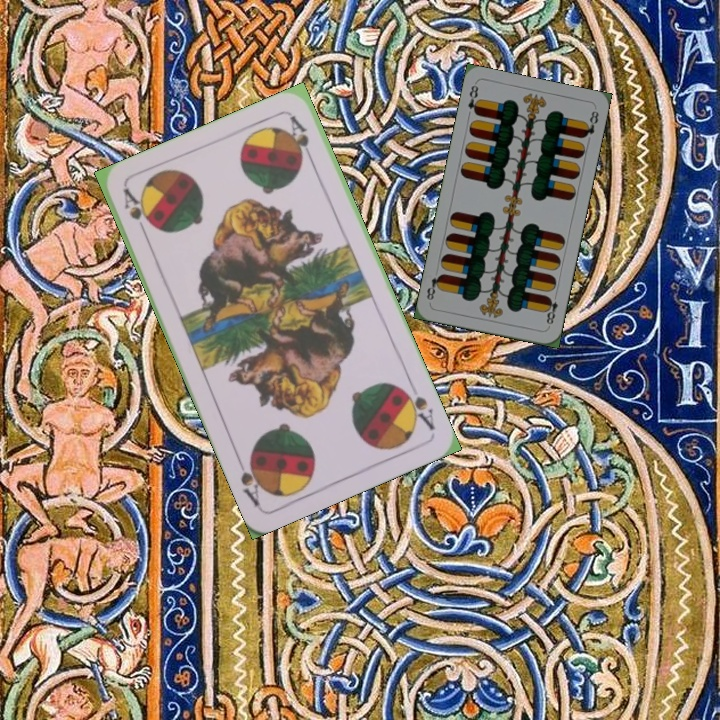E8: (541, 290, 560, 330), (464, 81, 483, 118)
SA: (397, 378, 438, 433), (119, 185, 154, 241)
